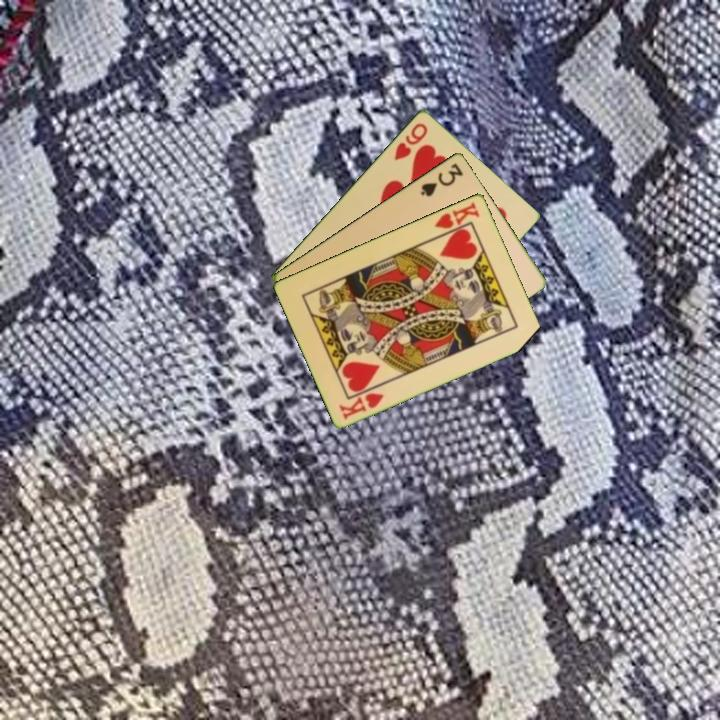3s: (417, 159, 466, 199)
9h: (390, 119, 431, 163)
Kh: (431, 198, 483, 239), (335, 388, 387, 422)
